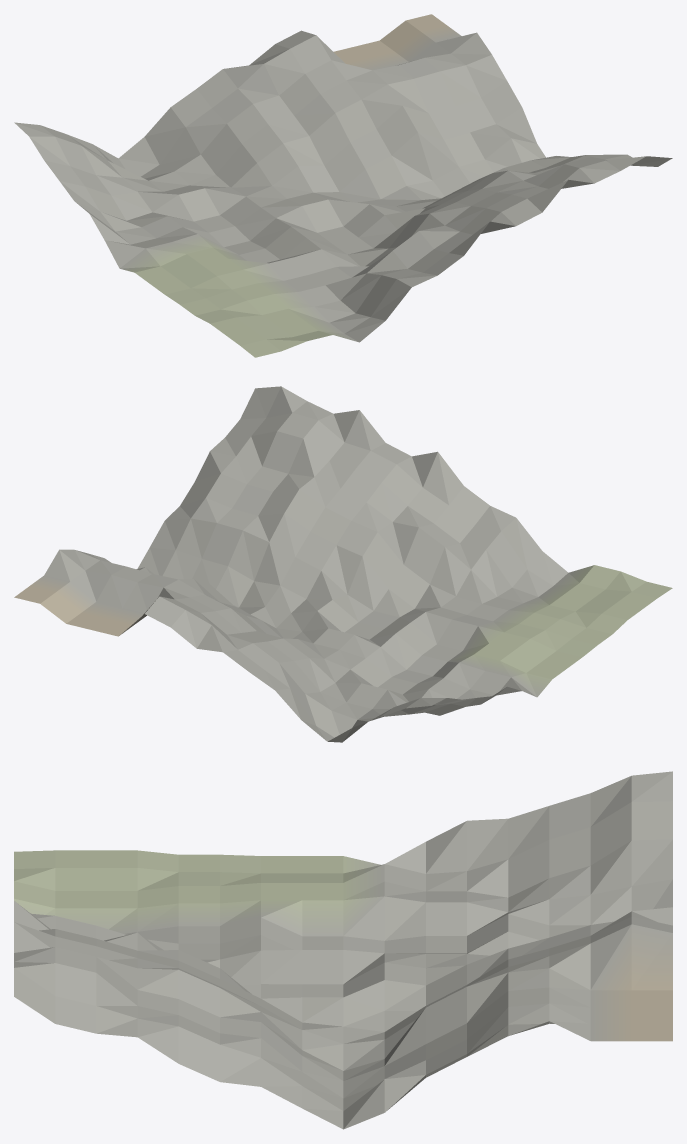
3 views of the same model, one above another, from view 1: azimuth 30°, elevation 25°; view 2: azimuth 150°, elevation 25°; view 3: azimuth 270°, elevation 25° (orthographic). The views are drawn at different scales.
Size of the model in its own units: 32 by 8.83 by 32.
